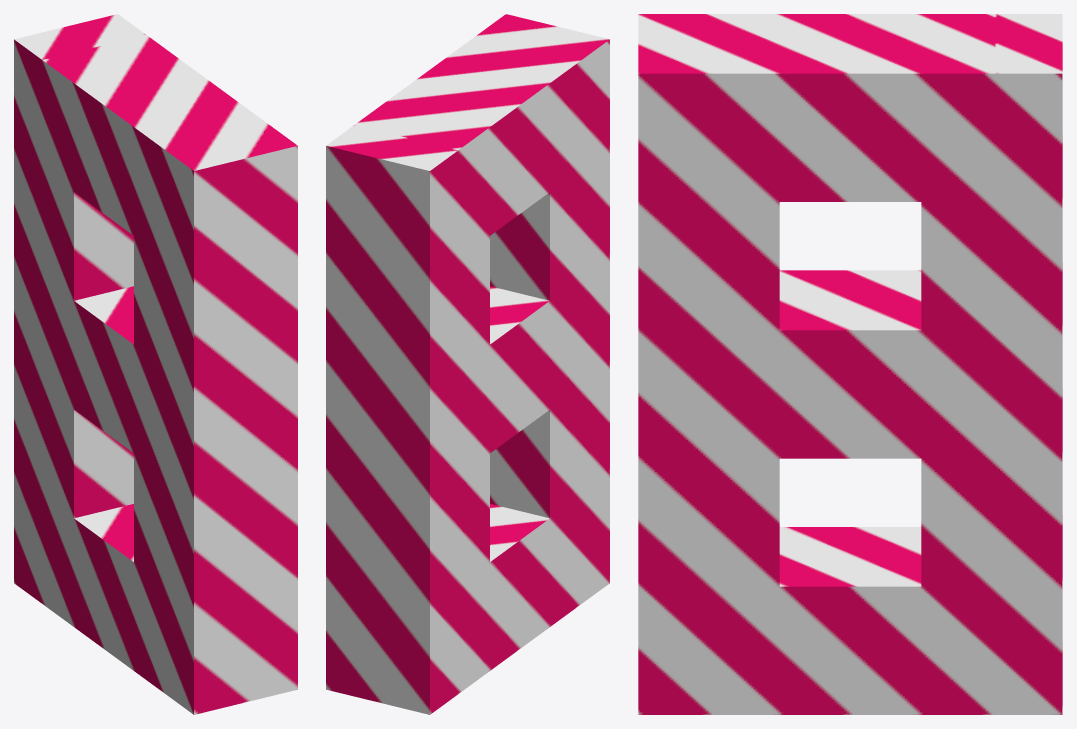
File: Eight.fbx
The picture shows the model from 3 angles, left to right: view 1: azimuth 30°, elevation 25°; view 2: azimuth 150°, elevation 25°; view 3: azimuth 270°, elevation 25°; orthographic projection. The views are drawn at different scales.
Visible parts, largest first — view 1: Cube; view 2: Cube; view 3: Cube.
Part boxes in pixels (bbox=[...]): Cube: bbox=[14, 14, 297, 714]; Cube: bbox=[326, 14, 609, 714]; Cube: bbox=[638, 14, 1062, 714].
Bounding box in the file's own units: 200 × 1000 × 600.
